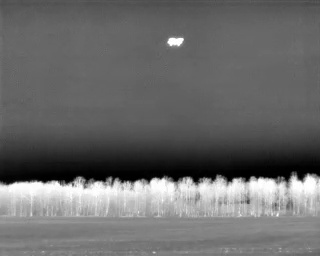DRONE: (162, 32, 188, 52)
